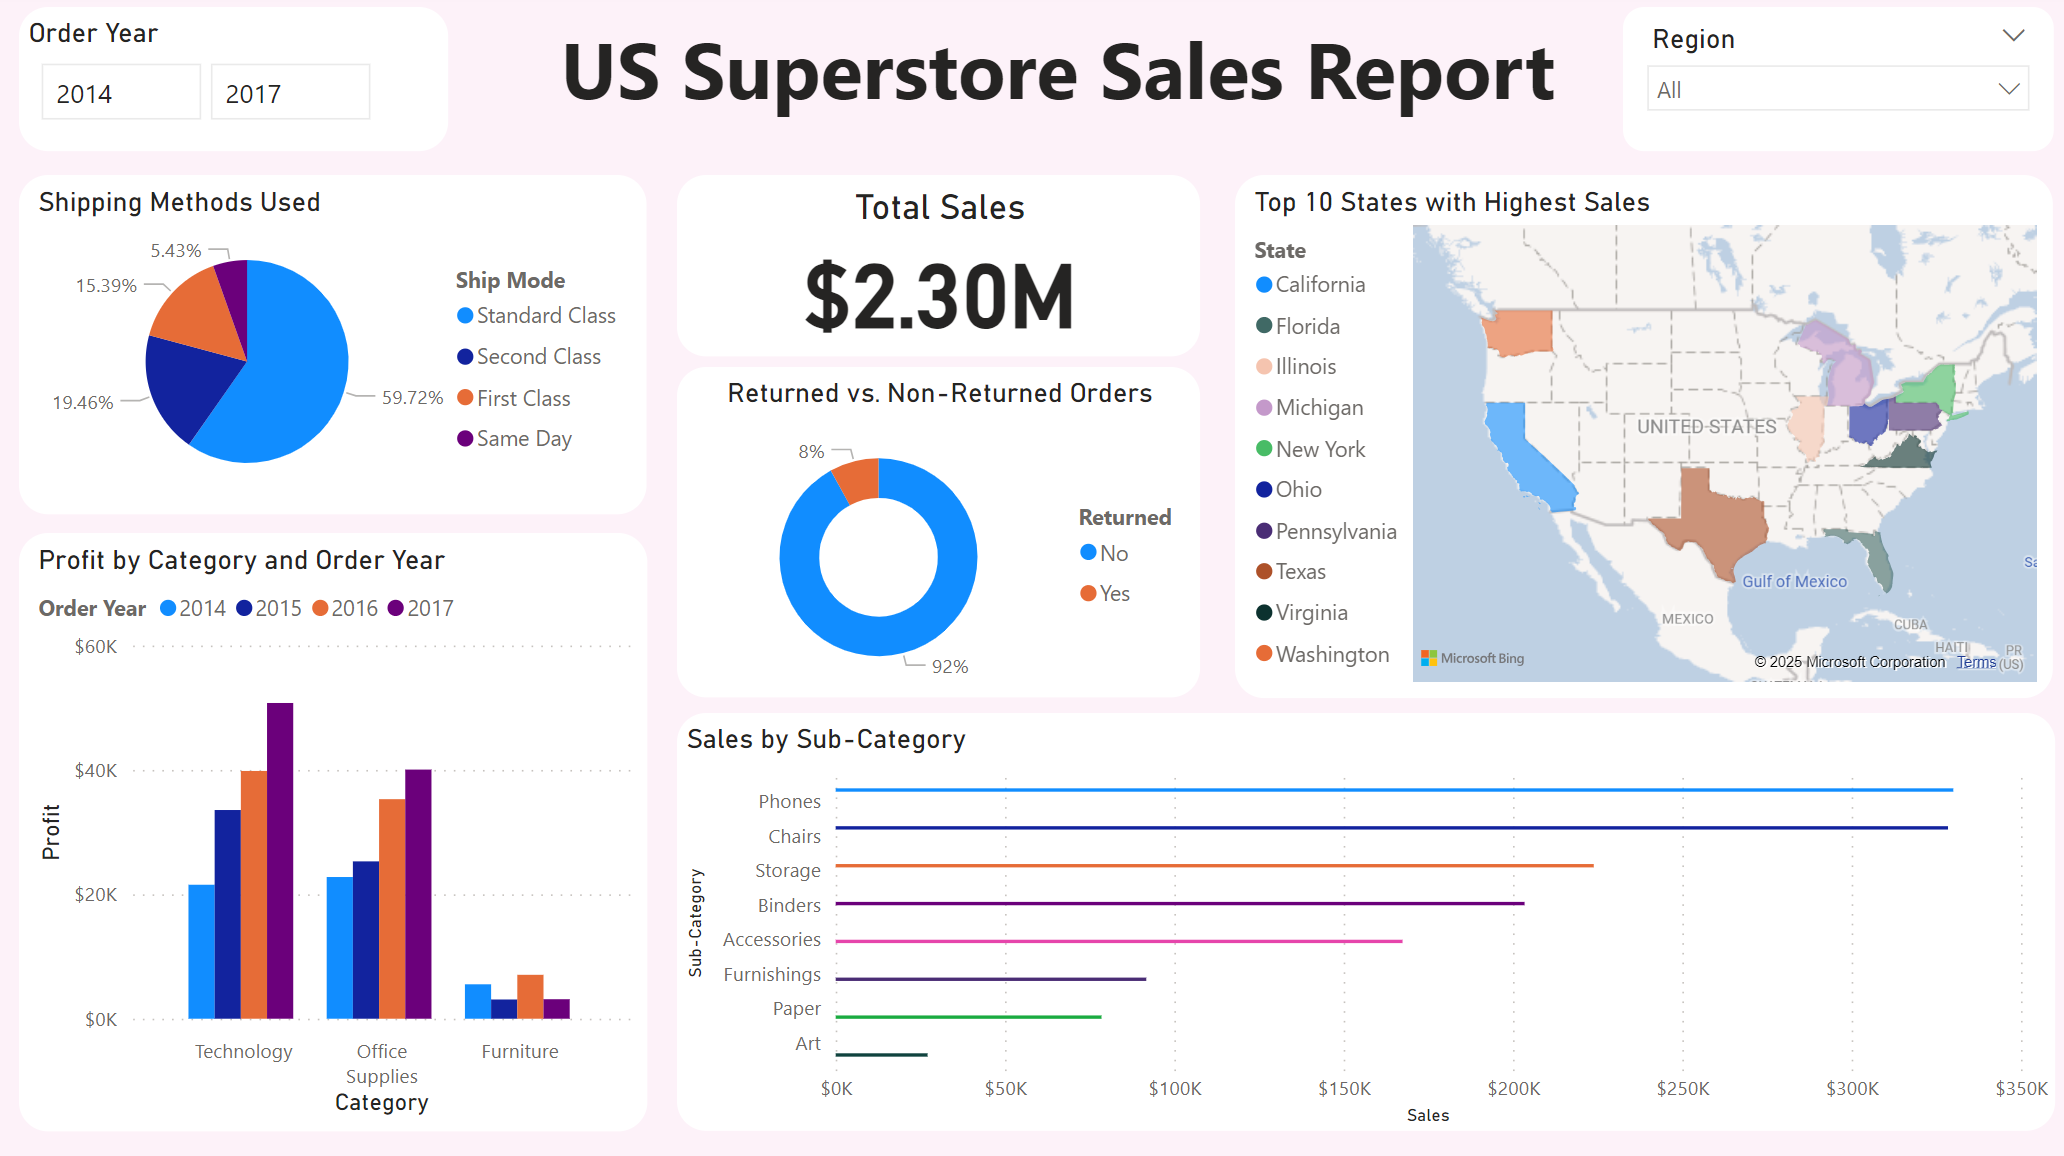

Layout of this report page (visuals, bound fields, positions):
{"tool":"powerbi","page":{"name":"Sales Report","canvas":[1280,720],"ordinal":0},"visuals":[{"type":"slicer","title":"Order Year","fields":{"Values":["OrderData.Order Year"]},"box":[13.5,9.5,264.8,89.2],"z":0},{"type":"slicer","fields":{"Values":["OrderData.Region"]},"box":[1003.7,9.5,266.1,89.2],"z":1000},{"type":"filledMap","title":"Top 10 States with Highest Sales","fields":{"Category":["OrderData.State"],"Series":["OrderData.State"]},"box":[764.6,113.5,505.2,322.9],"z":2000},{"type":"donutChart","title":"Returned vs. Non-Returned Orders","fields":{"Category":["OrderData.Returned"],"Y":["CountNonNull(OrderData.Returned)"]},"box":[420.1,232.3,322.9,204],"z":3000},{"type":"pieChart","title":"Shipping Methods Used","fields":{"Category":["OrderData.Ship Mode"],"Y":["CountNonNull(OrderData.Ship Mode)"]},"box":[13.5,113.5,387.7,209.4],"z":4000},{"type":"clusteredColumnChart","title":"Profit by Category and Order Year","fields":{"Category":["OrderData.Category"],"Series":["OrderData.Order Year"],"Y":["Sum(OrderData.Profit)"]},"box":[13.6,334.7,387.8,369.3],"z":5000},{"type":"clusteredBarChart","title":"Sales by Sub-Category","fields":{"Series":["OrderData.Sub-Category"],"Category":["OrderData.Sub-Category"],"Y":["Sum(OrderData.Sales)"]},"box":[419.9,445.8,850.9,258.1],"z":6000},{"type":"card","title":"Total Sales","fields":{"Values":["Sum(OrderData.Sales)"]},"box":[420.1,113.5,322.9,112.1],"z":7000},{"type":"textbox","box":[325.6,9.5,657.9,104],"z":8000}]}

Visuals, with their boxes in screenshot pixels (x1, y1, x2, y2), scaled from the page's 1280x720 canvas onto the 2064x1156 screenshot:
"Order Year" slicer: <box>22,15,449,158</box>
slicer - OrderData.Region: <box>1618,15,2048,158</box>
"Top 10 States with Highest Sales" filledMap: <box>1233,182,2048,701</box>
"Returned vs. Non-Returned Orders" donutChart: <box>677,373,1198,701</box>
"Shipping Methods Used" pieChart: <box>22,182,647,518</box>
"Profit by Category and Order Year" clusteredColumnChart: <box>22,537,647,1130</box>
"Sales by Sub-Category" clusteredBarChart: <box>677,716,2049,1130</box>
"Total Sales" card: <box>677,182,1198,362</box>
textbox: <box>525,15,1586,182</box>
